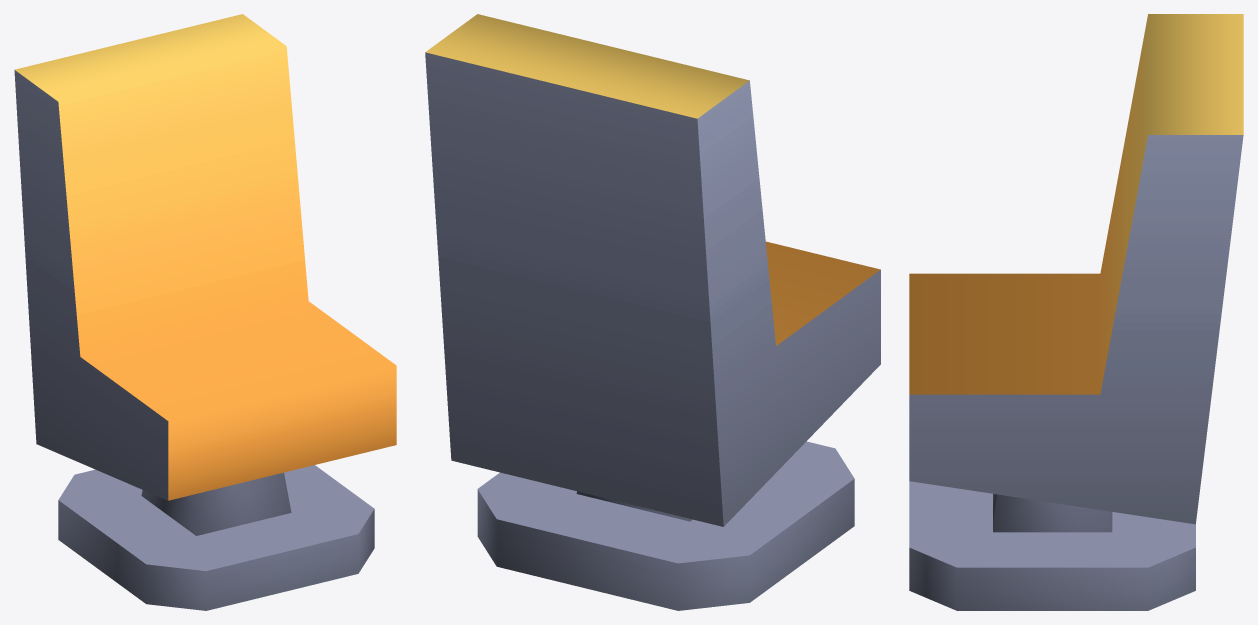
Rendered from station.chair.glb.
3 renders of one model, left to right at view 1: azimuth 30°, elevation 25°; view 2: azimuth 150°, elevation 25°; view 3: azimuth 270°, elevation 25°, orthographic. The views are drawn at different scales.
Parts seen in each view (by area): view 1: chair; view 2: chair; view 3: chair.
Boxes of the visible parts, bbox=[...] form: chair: bbox=[14, 14, 396, 610]; chair: bbox=[425, 14, 880, 610]; chair: bbox=[909, 14, 1243, 610].
Size of the model in its own units: 0.5182 by 0.95 by 0.6045.
Materials: 1 (1 with a texture image).
